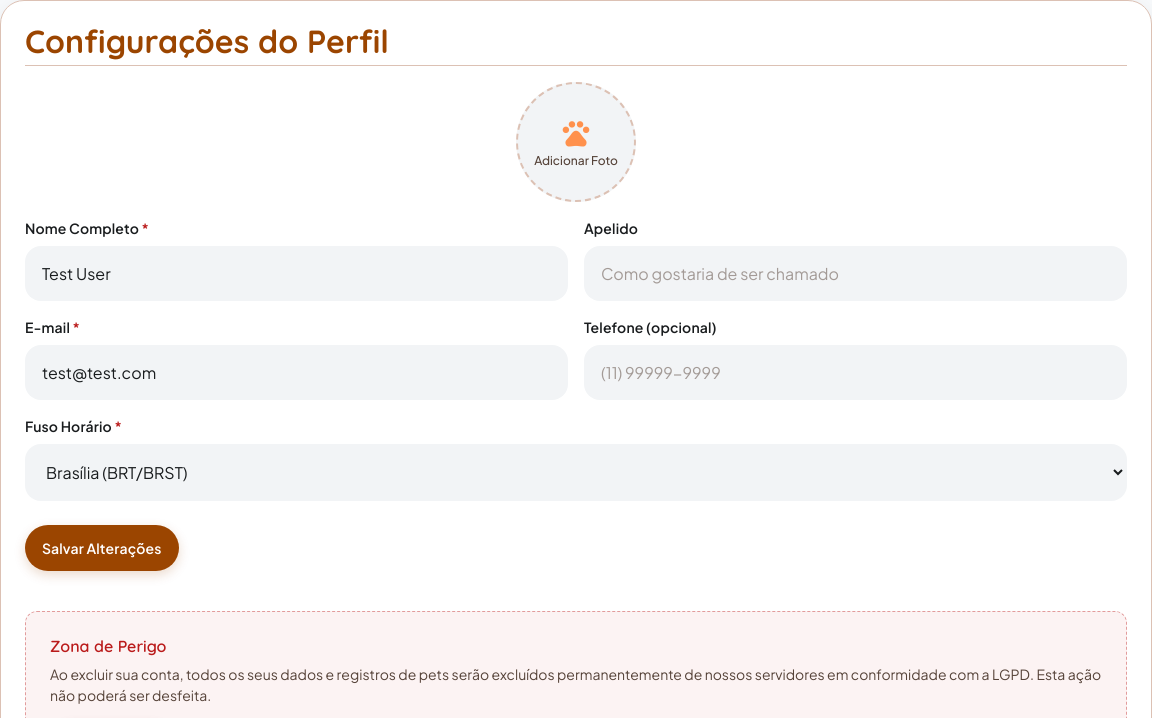
Test: ProfileForm Component › should validate empty form fields before submitting
Test empty name and email
Step 1. Clear the field labelled "Nome Completo" → (296, 274), box [25,246,568,301]
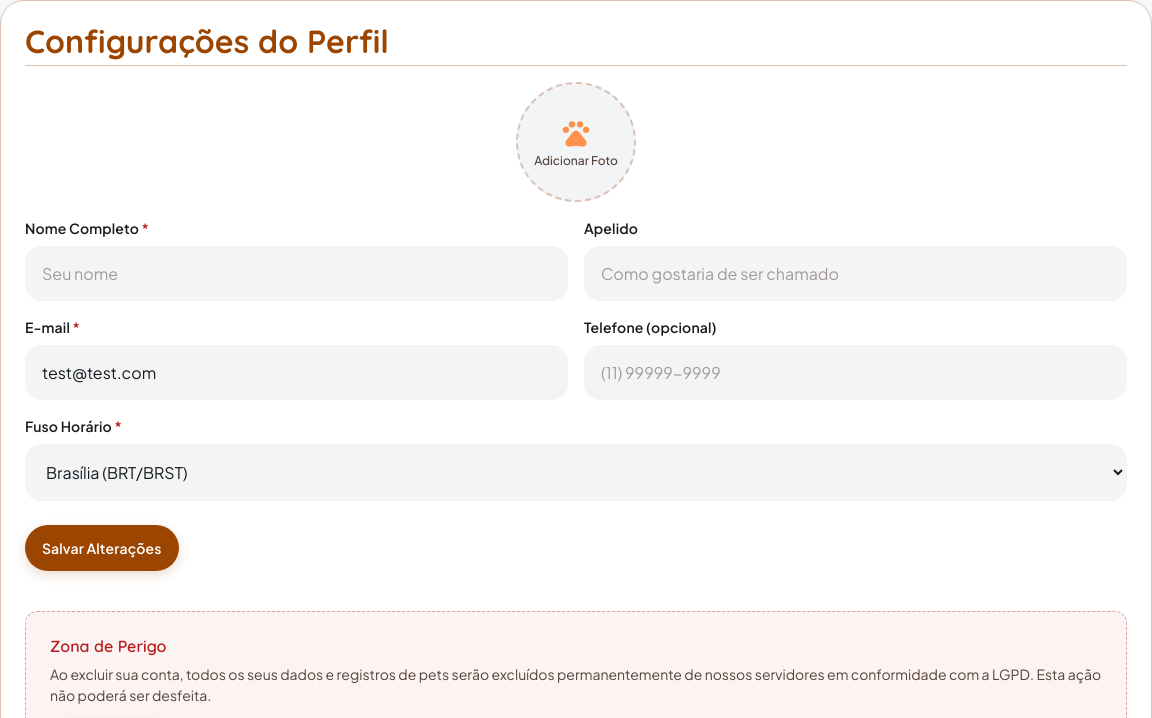
Step 2. Clear the field labelled "E-mail" → (296, 372), box [25,345,568,400]
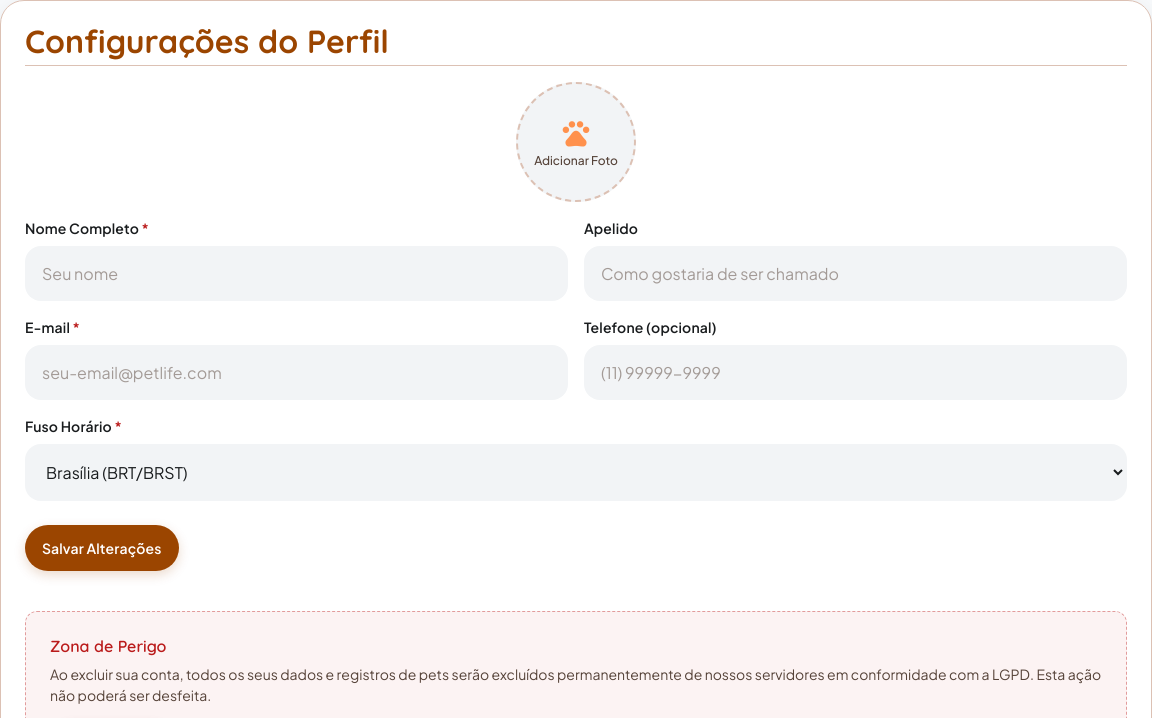
Step 3. Submit the form named "Salvar Alterações"
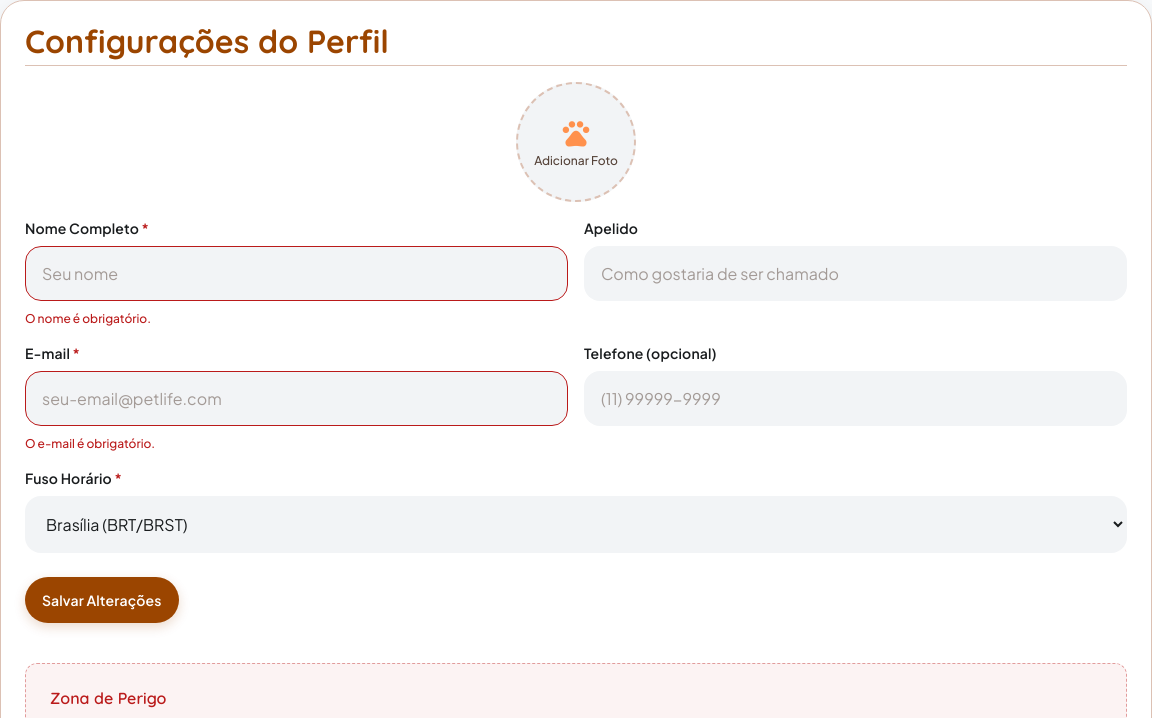
Expected: the text "O nome é obrigatório." is shown, [25,311,151,326]
Expected: the text "O e-mail é obrigatório." is shown, [25,436,155,451]
